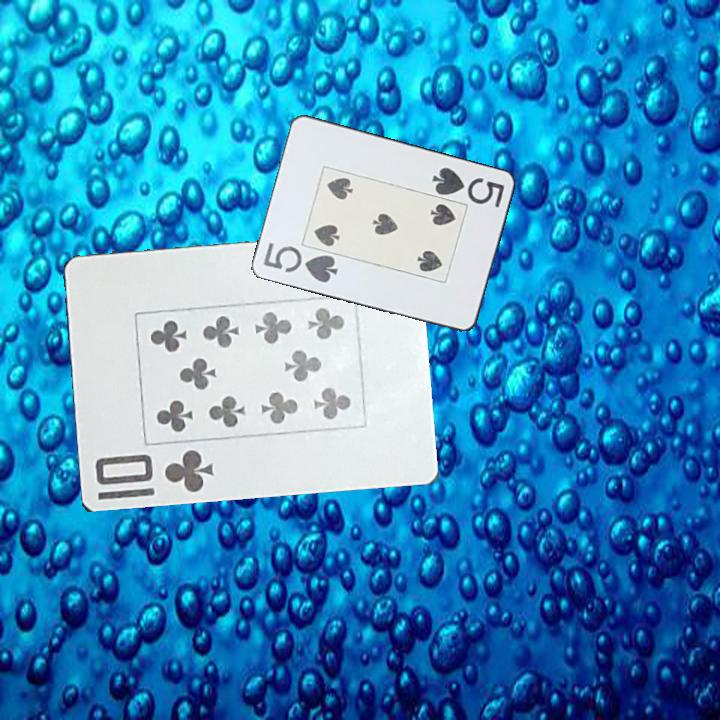5s: (260, 239, 342, 286), (429, 163, 508, 210)
Tc: (91, 446, 217, 496)
